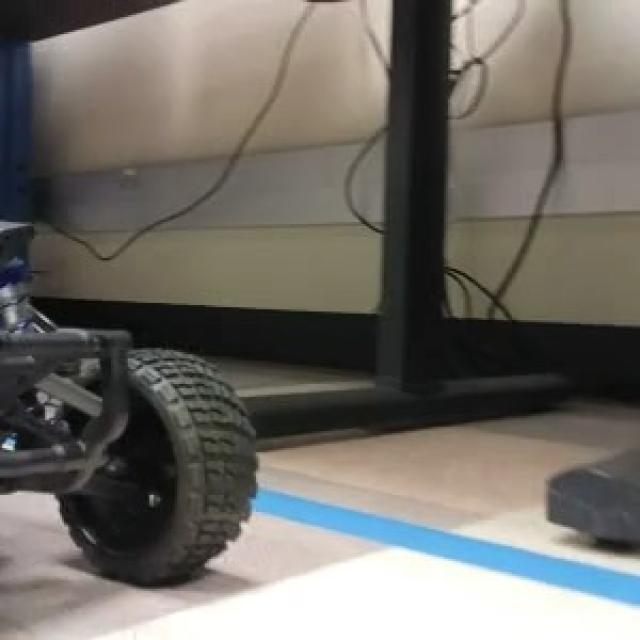obstacle: (4, 224, 260, 594)
